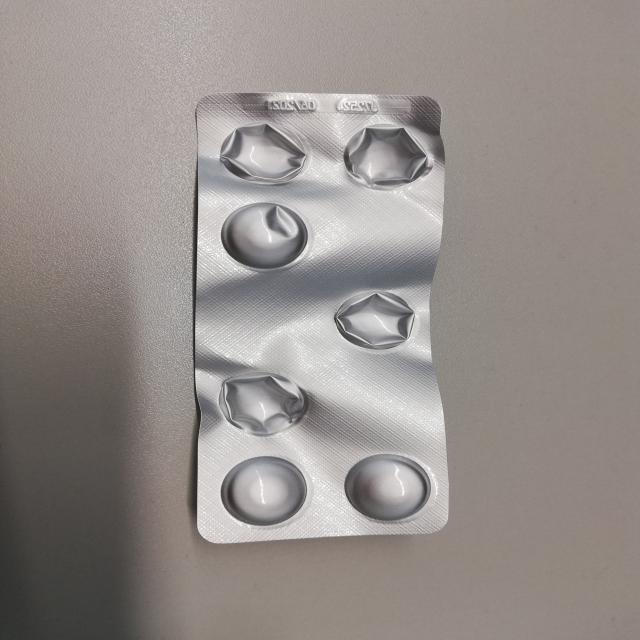Empty: (210, 368, 310, 437), (338, 121, 434, 191), (217, 121, 311, 189), (333, 288, 420, 351)
Pill: (216, 198, 310, 272), (341, 453, 435, 523), (220, 455, 310, 527)
